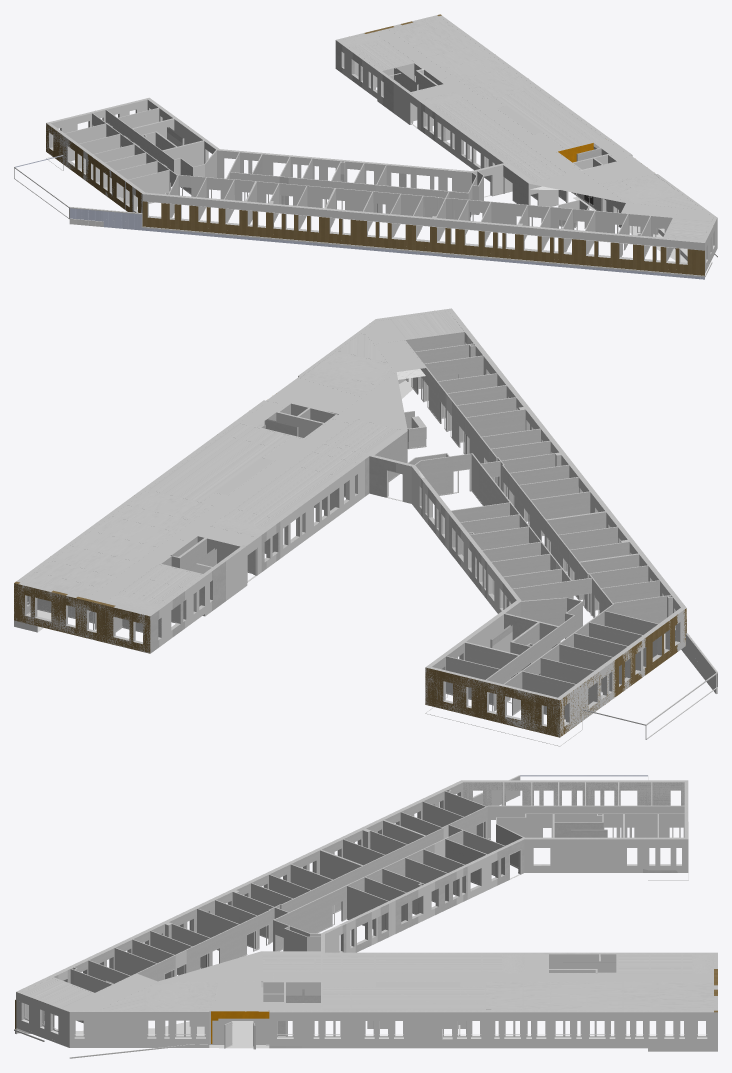
File: 0_floor_aisle_a_sized.glb
3 renders of one model, top to bottom at view 1: azimuth 30°, elevation 25°; view 2: azimuth 150°, elevation 25°; view 3: azimuth 270°, elevation 25°, orthographic. The views are drawn at different scales.
Visible parts, largest first — view 1: SIMP_COL, NOCOL_Plafond, NOCOL_Murs, NOCOL_Cube_1516, NOCOL_UFR_MIM_V1_Montant_portes; view 2: NOCOL_Murs, NOCOL_Plafond, SIMP_COL, NOCOL_Cube_1516, NOCOL_UFR_MIM_V1_Montant_portes; view 3: SIMP_COL, NOCOL_Murs, NOCOL_Plafond, NOCOL_Cube_1516, NOCOL_UFR_MIM_V1_Montant_portes.
Boxes of the visible parts, x1,y1,x2,y2 form: SIMP_COL: (46, 45, 717, 273); NOCOL_Plafond: (340, 16, 713, 240); NOCOL_Murs: (46, 14, 717, 264); NOCOL_Cube_1516: (14, 155, 717, 279); NOCOL_UFR_MIM_V1_Montant_portes: (92, 75, 662, 236); NOCOL_Murs: (14, 308, 686, 737); NOCOL_Plafond: (21, 311, 463, 613); SIMP_COL: (14, 316, 686, 736); NOCOL_Cube_1516: (425, 619, 717, 746); NOCOL_UFR_MIM_V1_Montant_portes: (89, 377, 598, 715); SIMP_COL: (16, 782, 717, 1051); NOCOL_Murs: (16, 780, 717, 1045); NOCOL_Plafond: (23, 951, 714, 1018); NOCOL_Cube_1516: (14, 775, 688, 1058); NOCOL_UFR_MIM_V1_Montant_portes: (164, 819, 683, 978).
Size of what is drawn, in the model's own units: 57.26 by 4.71 by 64.59.
Materials: 31 (13 with a texture image).
